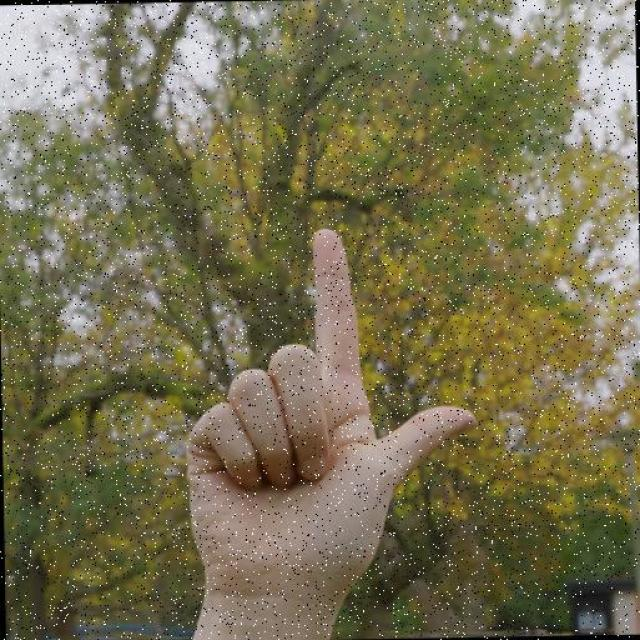L: (176, 220, 485, 629)
